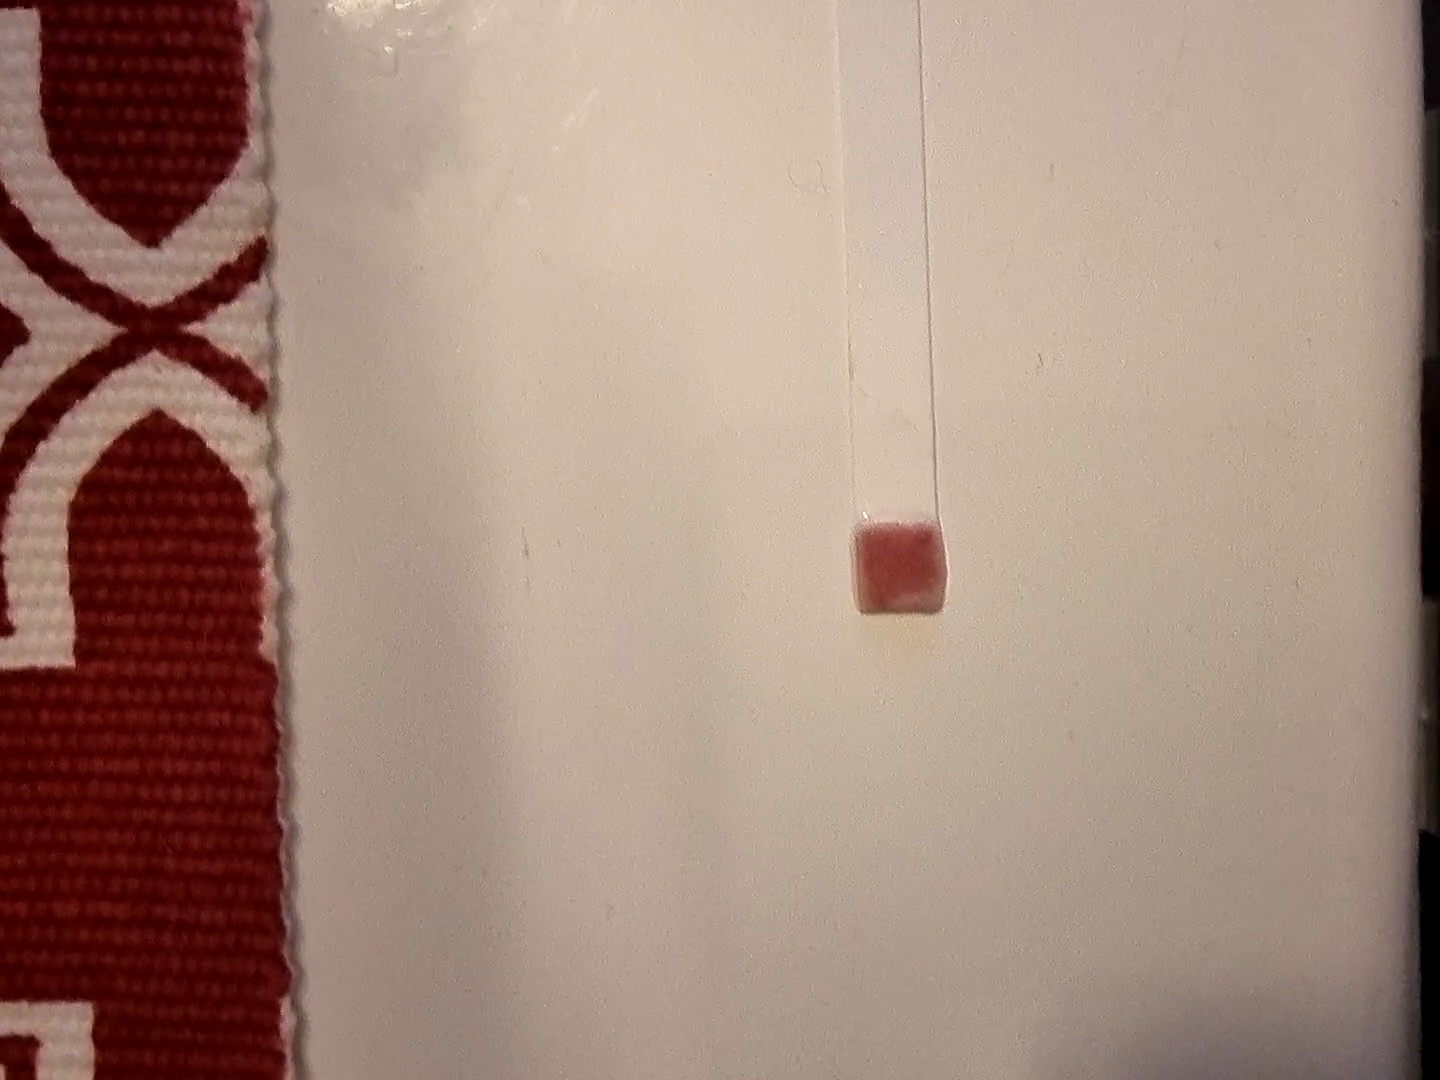keto-tip: (852, 518, 952, 621)
